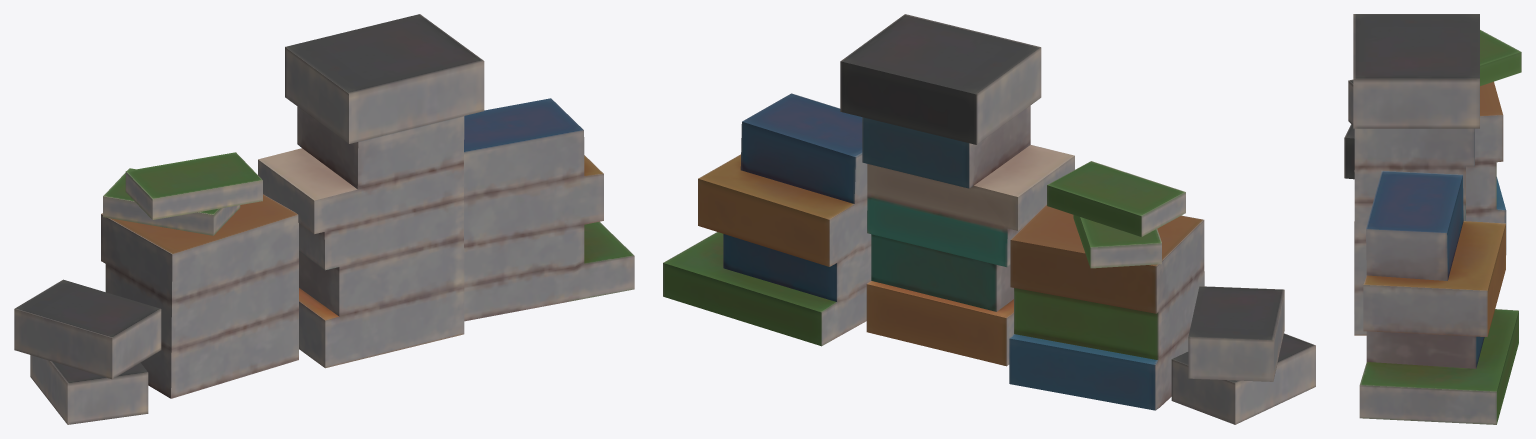
File: Pfb_Indoors_Books__16.fbx
3 views of the same model, side by side, from view 1: azimuth 30°, elevation 25°; view 2: azimuth 150°, elevation 25°; view 3: azimuth 270°, elevation 25° (orthographic).
Parts seen in each view (by area): view 1: Mat_Indoors_Books_01_2; view 2: Mat_Indoors_Books_01_2; view 3: Mat_Indoors_Books_01_2.
Part boxes in pixels (x1=…): Mat_Indoors_Books_01_2: x1=14, y1=14, x2=634, y2=424; Mat_Indoors_Books_01_2: x1=663, y1=14, x2=1315, y2=424; Mat_Indoors_Books_01_2: x1=1344, y1=14, x2=1521, y2=424.
Size of the model in its own units: 1.89 by 0.8312 by 0.5001.
Materials: 1 (1 with a texture image).
